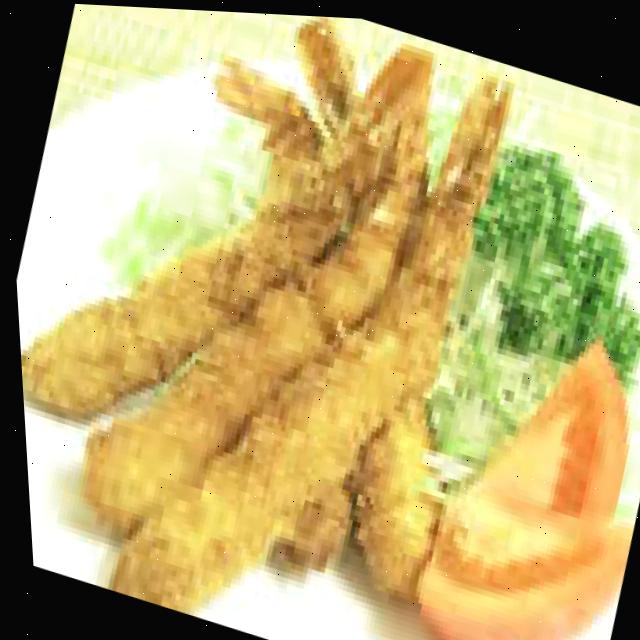炸货点心: (0, 0, 573, 640)
熟制海鲜: (0, 0, 573, 640)
